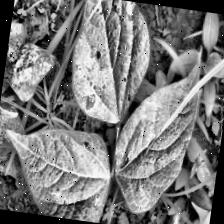ALS: (59, 0, 157, 131), (15, 128, 118, 224), (10, 41, 64, 106)
